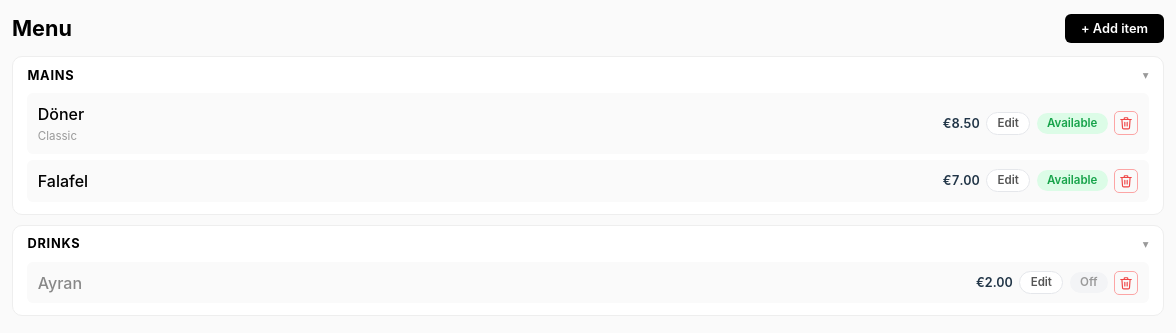
Test: MenuPage › collapses a category to hide its items and expands again
Check: the text "Döner" is shown, box [38,104,84,124]
Step 1. Click the button with aria-label "Collapse Mains" → (51, 75), box [13,57,1163,93]
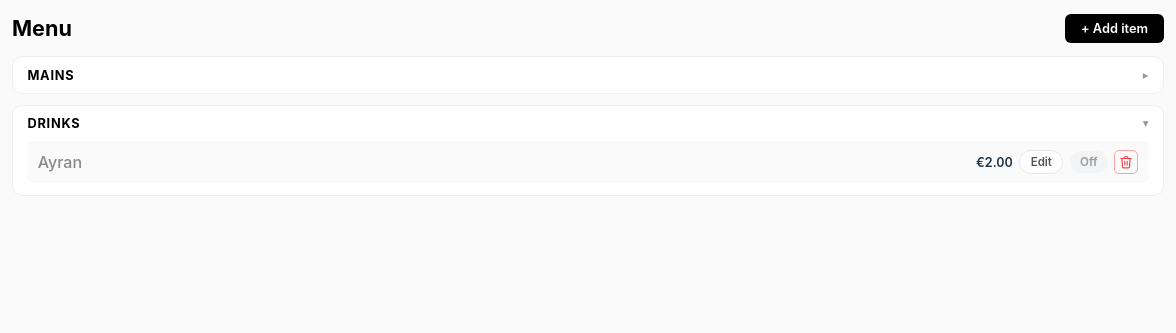
Check: the text "Ayran" is shown, box [38,152,82,172]
Check: the text "Döner" is gone
Check: the text "Falafel" is gone
Step 2. Click the button with aria-label "Expand Mains" → (51, 75), box [13,57,1163,93]
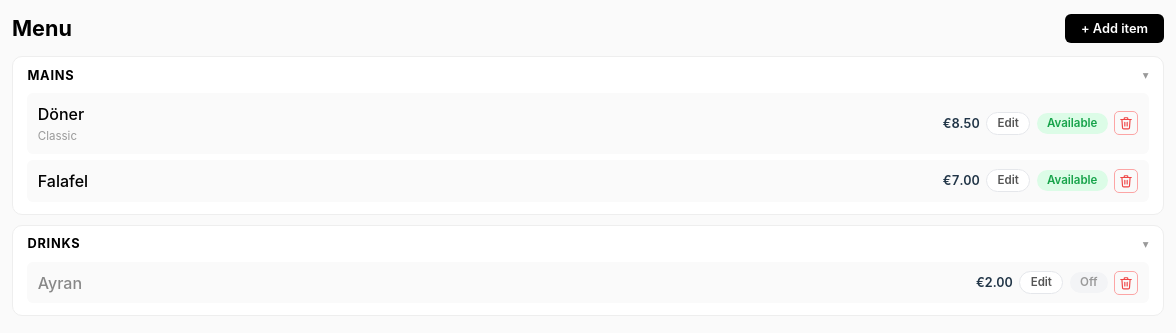
Check: the text "Döner" is shown, box [38,104,84,124]
Check: the text "Falafel" is shown, box [38,171,88,191]
